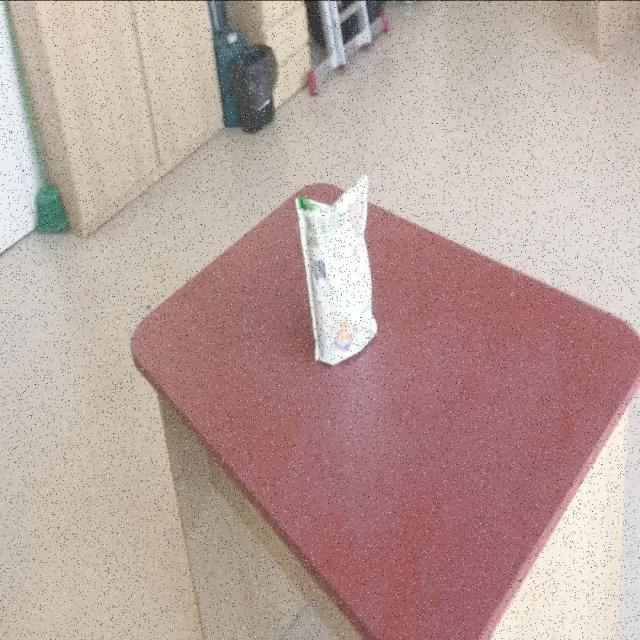CornFlakes: (129, 172, 640, 640), (294, 172, 378, 365)
